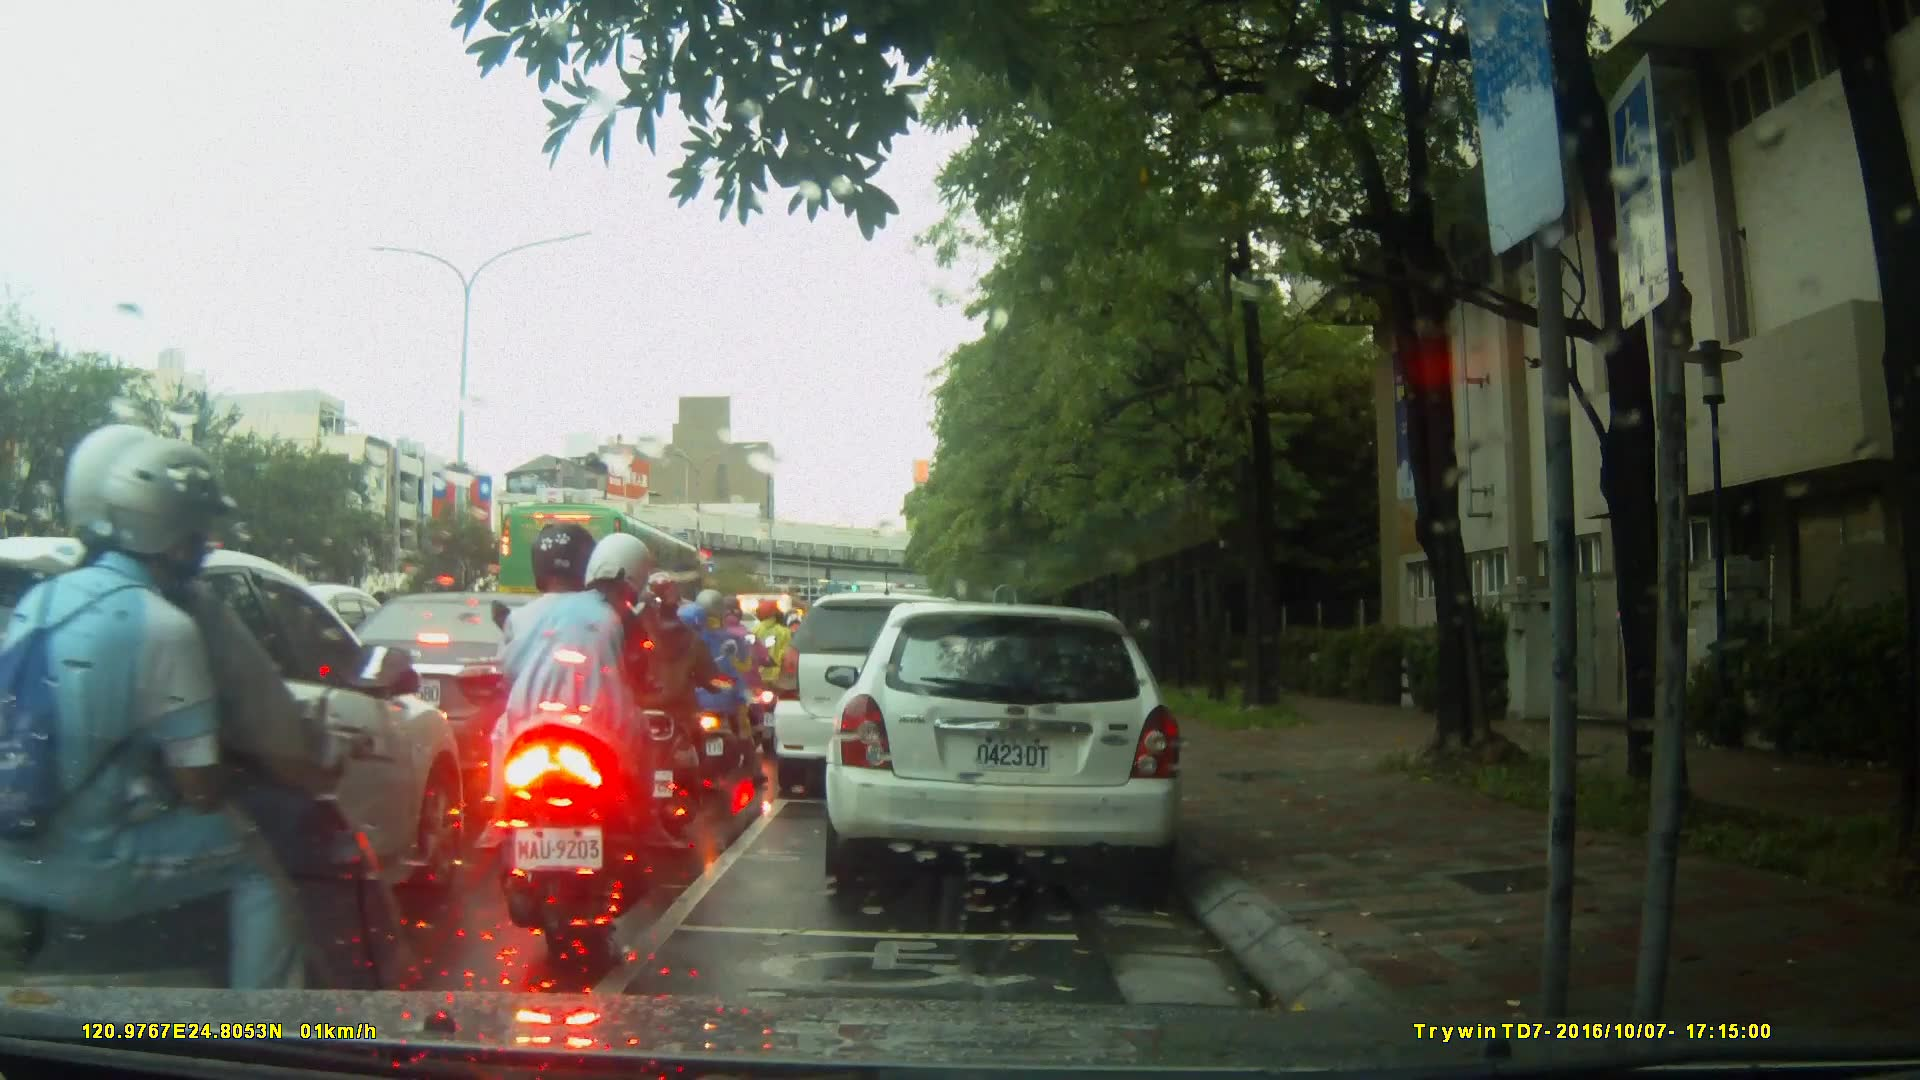rider: (1, 419, 433, 1080), (490, 521, 684, 961), (619, 573, 737, 835), (670, 589, 754, 787), (700, 598, 773, 764), (745, 598, 798, 741)
vehicle: (3, 536, 463, 988), (831, 592, 1196, 897), (312, 589, 629, 776), (771, 590, 999, 803), (495, 500, 711, 636)
